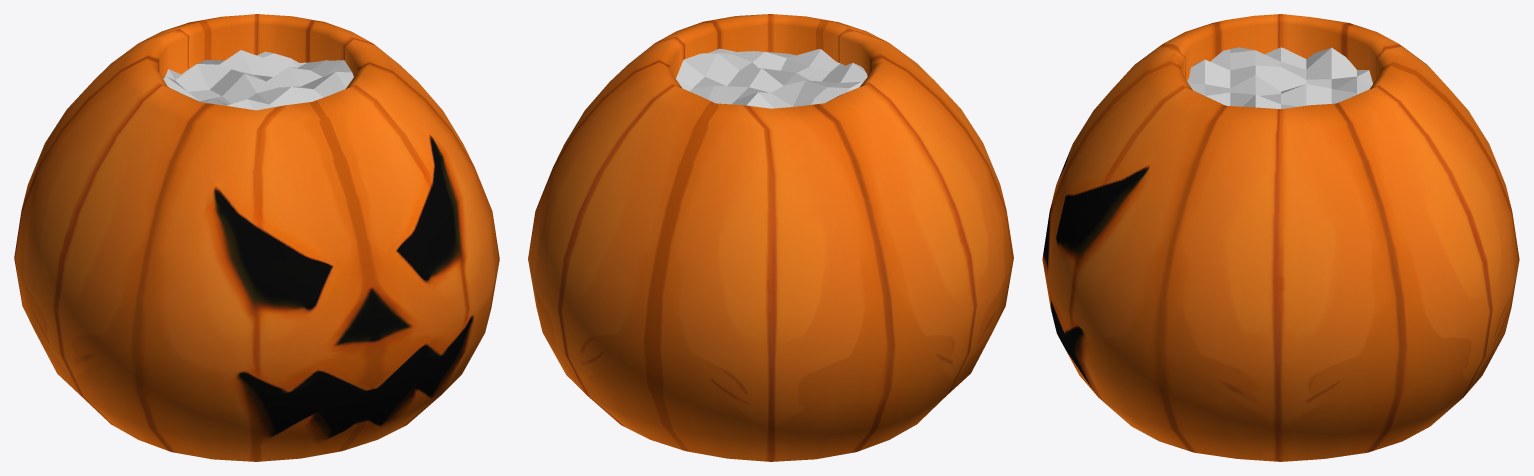
Rendered from Pumpkin.fbx.
The picture shows the model from 3 angles, left to right: view 1: azimuth 30°, elevation 25°; view 2: azimuth 150°, elevation 25°; view 3: azimuth 270°, elevation 25°; orthographic projection.
Visible parts, largest first — view 1: Pumpkin, Plane; view 2: Pumpkin, Plane; view 3: Pumpkin, Plane.
Boxes of the visible parts, <box> form: Pumpkin: <box>14,14,499,461</box>; Plane: <box>163,50,353,110</box>; Pumpkin: <box>528,14,1013,461</box>; Plane: <box>676,48,867,108</box>; Pumpkin: <box>1042,14,1519,461</box>; Plane: <box>1187,47,1372,109</box>.
Bounding box in the file's own units: 1047 × 858 × 1066.
